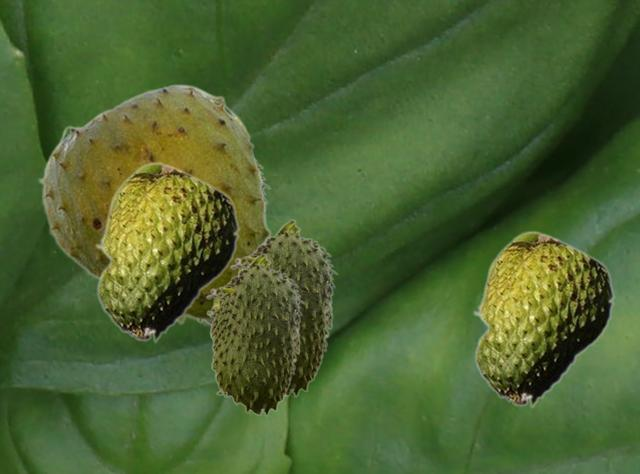guyabano: (37, 83, 271, 327), (94, 161, 239, 343), (472, 230, 614, 408), (230, 218, 337, 396), (206, 252, 304, 415)
